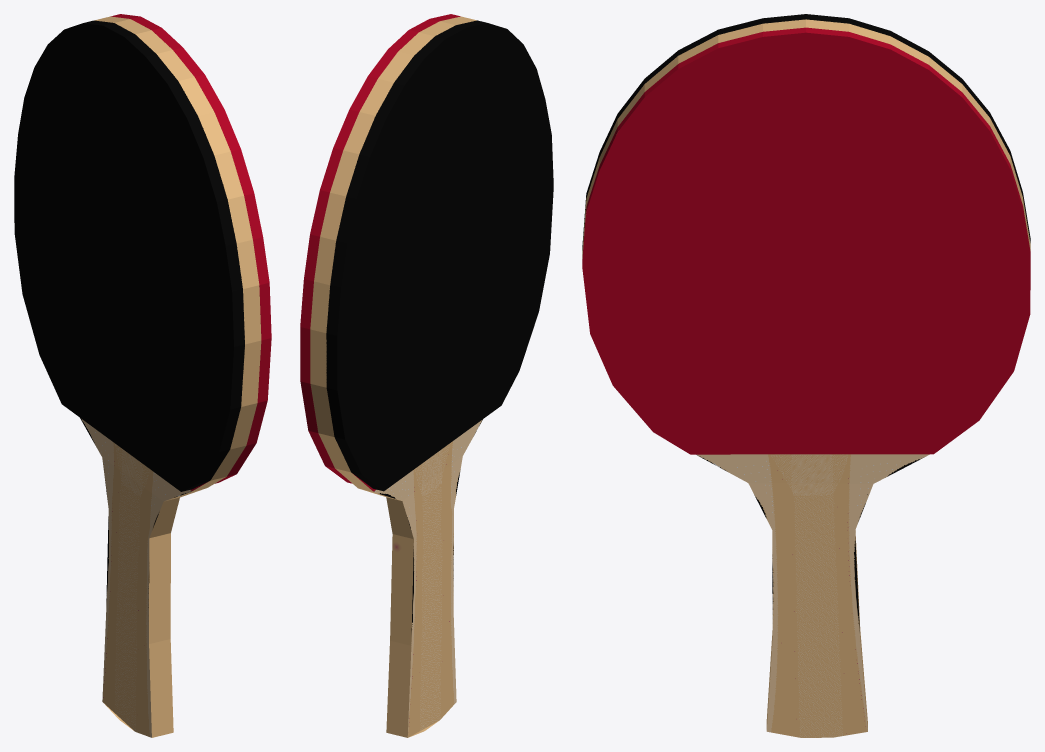
The model's file is Ping Pong Racket.fbx.
The picture shows the model from 3 angles, left to right: view 1: azimuth 30°, elevation 25°; view 2: azimuth 150°, elevation 25°; view 3: azimuth 270°, elevation 25°; orthographic projection. The views are drawn at different scales.
Parts seen in each view (by area): view 1: Ping_Pong_Racket; view 2: Ping_Pong_Racket; view 3: Ping_Pong_Racket.
Part boxes in pixels (x1,y1,x2,y2): Ping_Pong_Racket: (14, 14, 271, 737); Ping_Pong_Racket: (300, 14, 553, 737); Ping_Pong_Racket: (582, 14, 1030, 737).
Bounding box in the file's own units: 1.46 × 25.8 × 14.79.
1 material, 1 textured.
